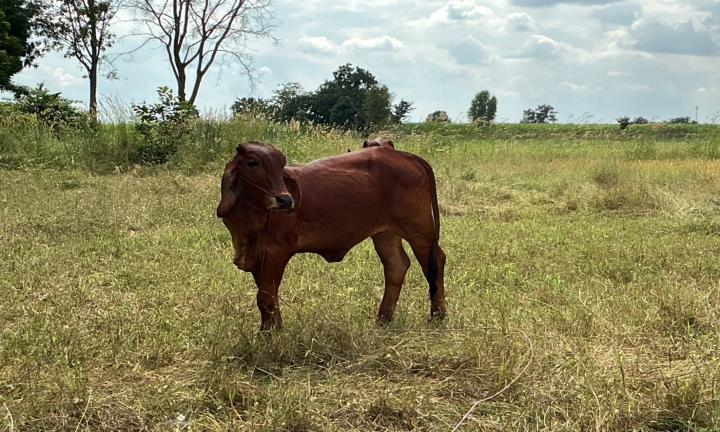Brahman: (216, 141, 445, 328)
